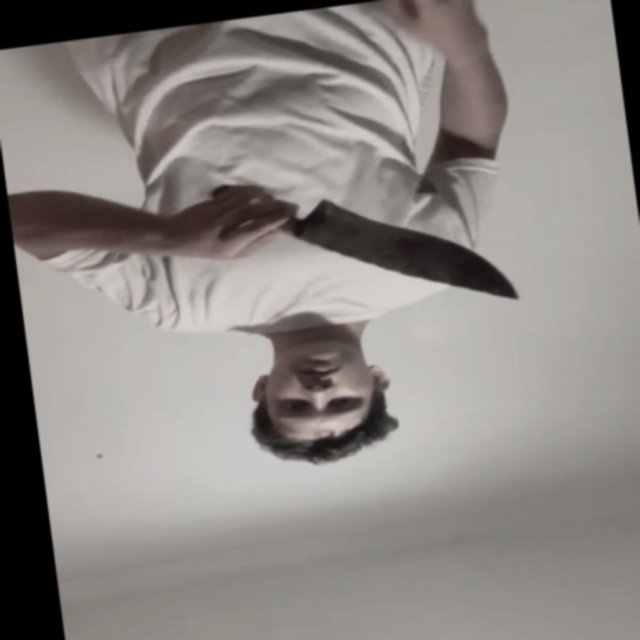Sharp-Object: (293, 177, 521, 327)
